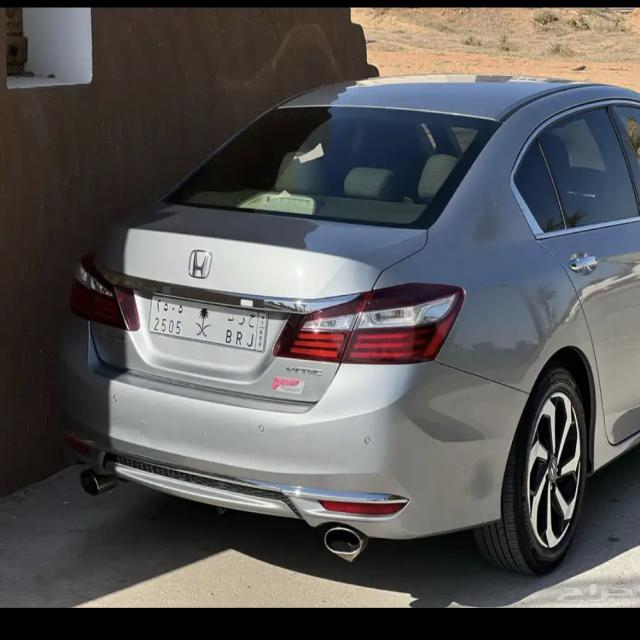license_plate: (150, 291, 268, 355)
